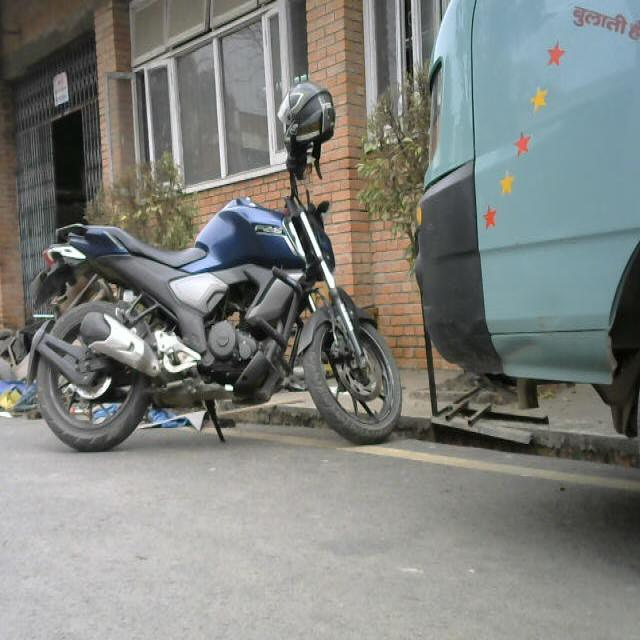Bike: (42, 108, 443, 458)
Road: (31, 459, 640, 640)
Vehicle: (425, 5, 640, 415)
